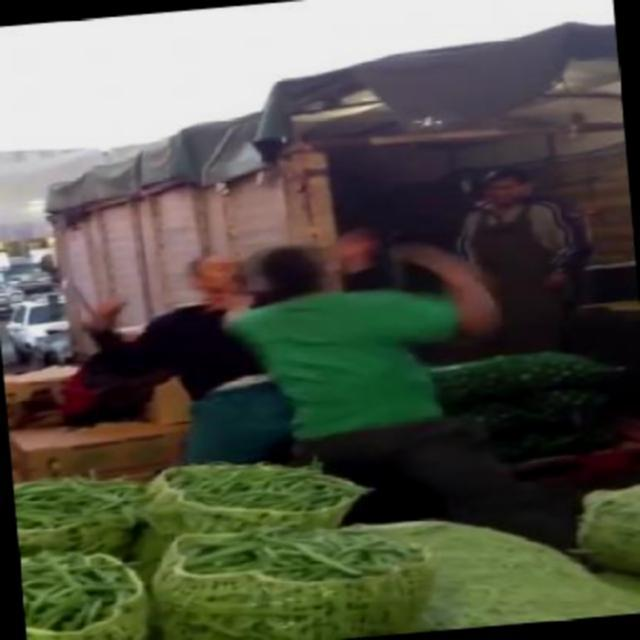fight: (83, 226, 506, 488)
non-fight: (454, 164, 594, 338)
